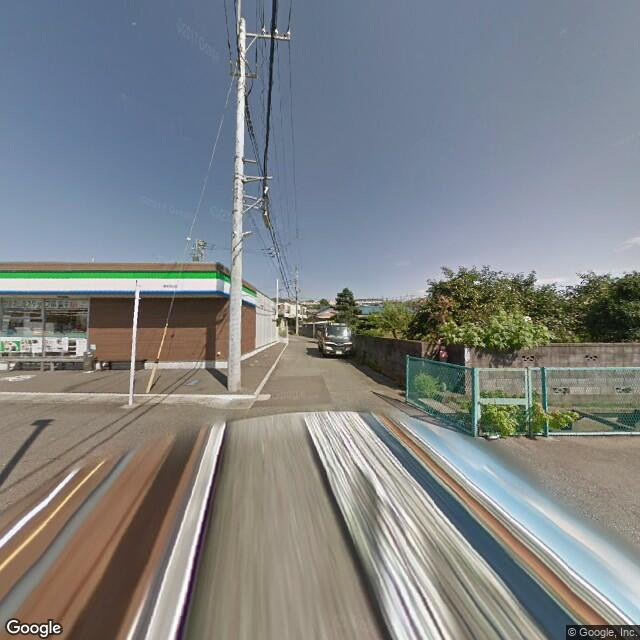family_mart: (1, 266, 222, 293), (215, 271, 261, 310)
